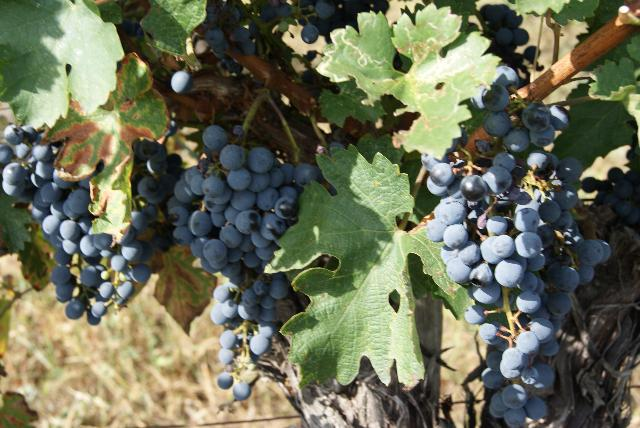grapes: (424, 68, 610, 428), (145, 125, 322, 400), (0, 125, 180, 325)
